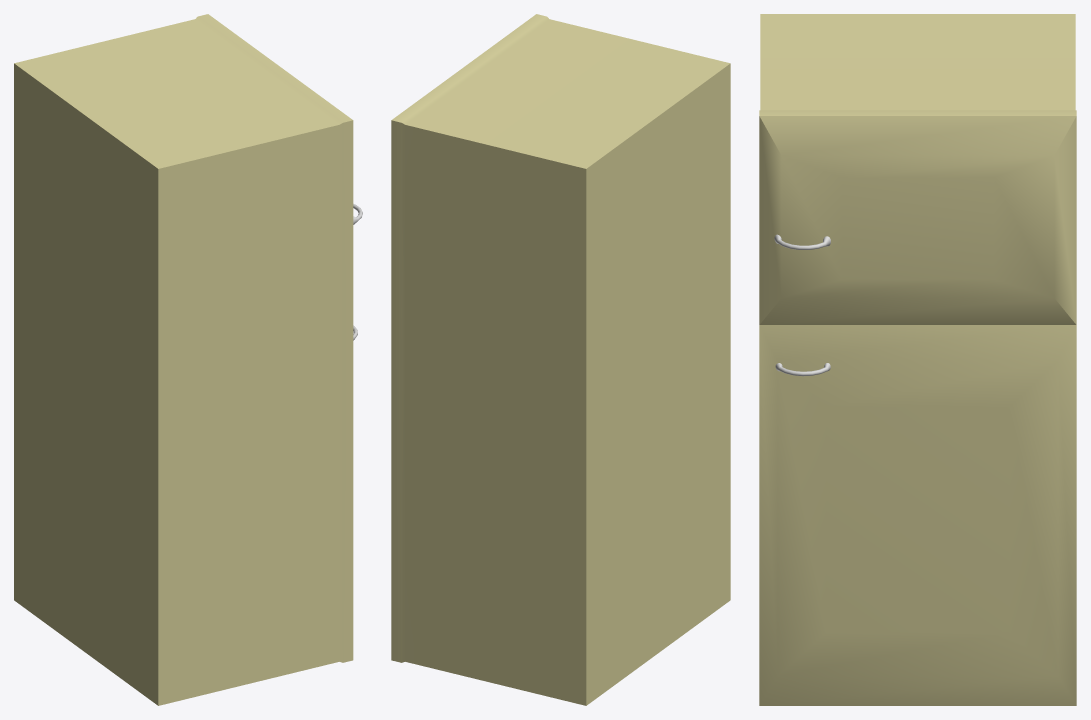
The model's file is koelkast.fbx.
3 views of the same model, side by side, from view 1: azimuth 30°, elevation 25°; view 2: azimuth 150°, elevation 25°; view 3: azimuth 270°, elevation 25° (orthographic). The views are drawn at different scales.
Visible parts, largest first — view 1: pCube3; view 2: pCube3; view 3: pCube3.
Boxes of the visible parts, x1,y1,x2,y2 form: pCube3: (14, 14, 362, 705); pCube3: (391, 14, 730, 705); pCube3: (759, 14, 1076, 705).
Size of the model in its own units: 4.93 by 11.54 by 5.62.
